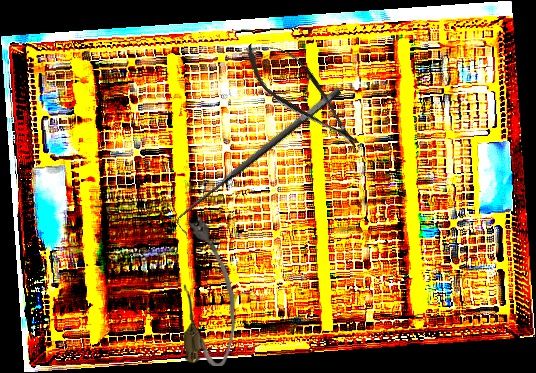Cannula: (179, 214, 238, 368)
Hook Surgical: (169, 85, 353, 236)
Micro Scissor: (233, 27, 374, 162)
